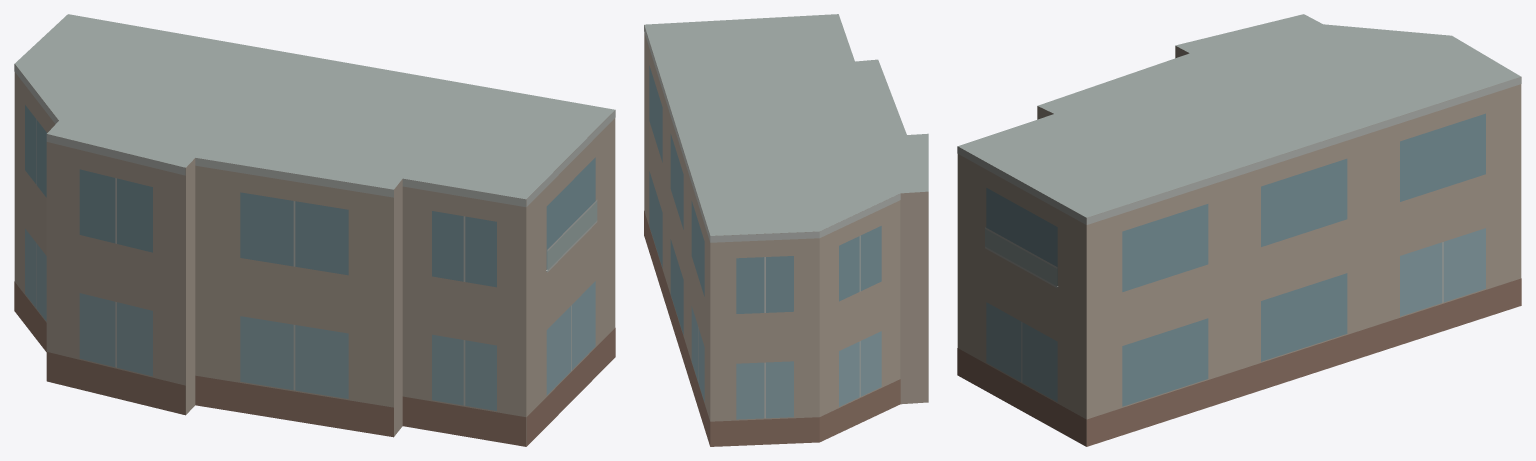
File: survey-upis-32511978.glb
3 renders of one model, left to right at view 1: azimuth 30°, elevation 25°; view 2: azimuth 150°, elevation 25°; view 3: azimuth 270°, elevation 25°, orthographic. The views are drawn at different scales.
Visible parts, largest first — view 1: survey-upis-32511978.tmp; view 2: survey-upis-32511978.tmp; view 3: survey-upis-32511978.tmp.
Part boxes in pixels (<box>): survey-upis-32511978.tmp: <box>14,14,615,446</box>; survey-upis-32511978.tmp: <box>644,14,928,446</box>; survey-upis-32511978.tmp: <box>957,14,1521,446</box>.
Size of the model in its own units: 14.51 by 7.6 by 16.96.
